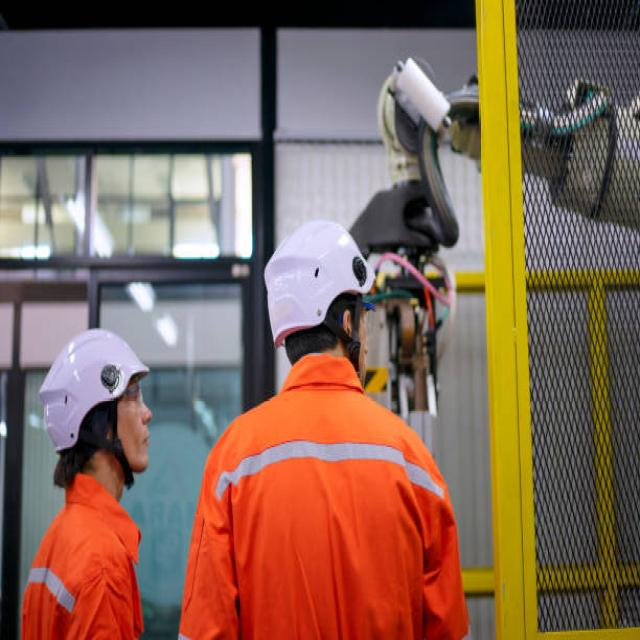Robotic-arm: (354, 39, 640, 414)
